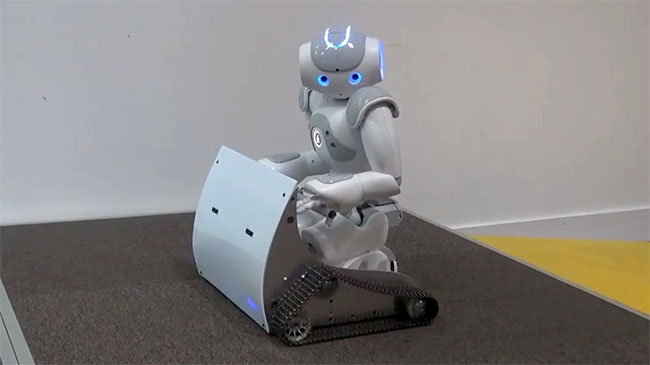nao: (256, 18, 427, 297)
